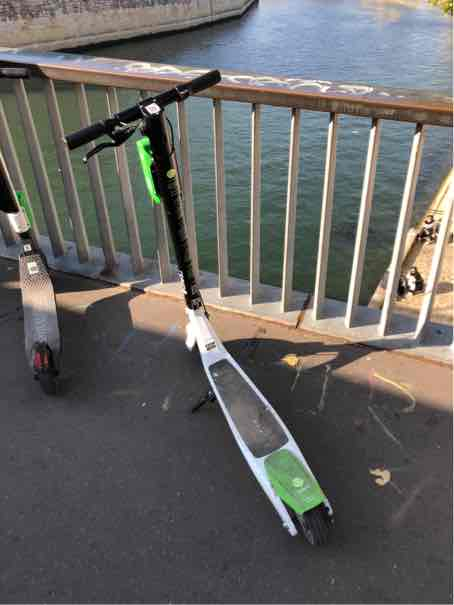scooter: (55, 67, 343, 559)
